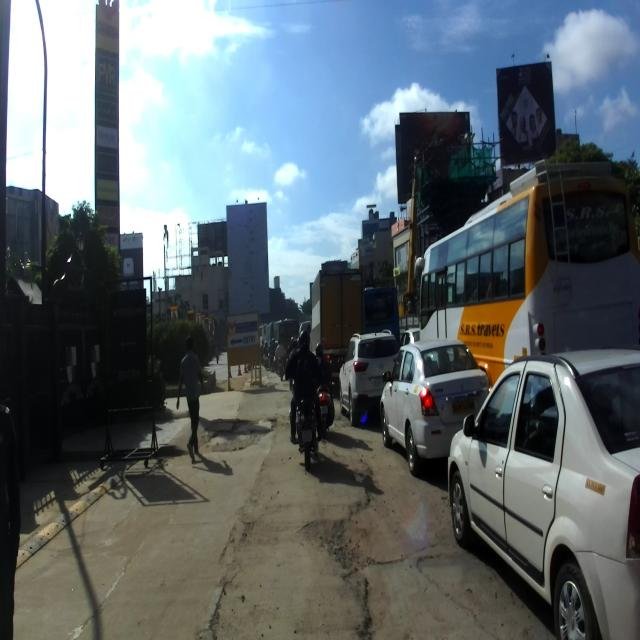Car_Hyundai: (338, 328, 400, 426)
Car_Mahindra: (447, 348, 640, 640)
Car_Maruti-Suzuki: (379, 338, 489, 476)
bus: (402, 159, 640, 393)
motorcycle_RoyalEnfield: (289, 356, 321, 469)
